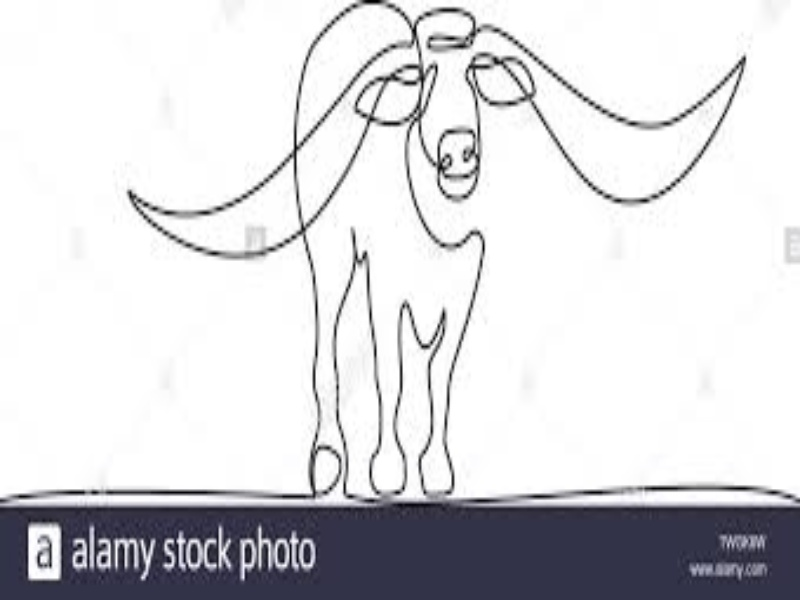buffalo: (123, 4, 747, 501)
